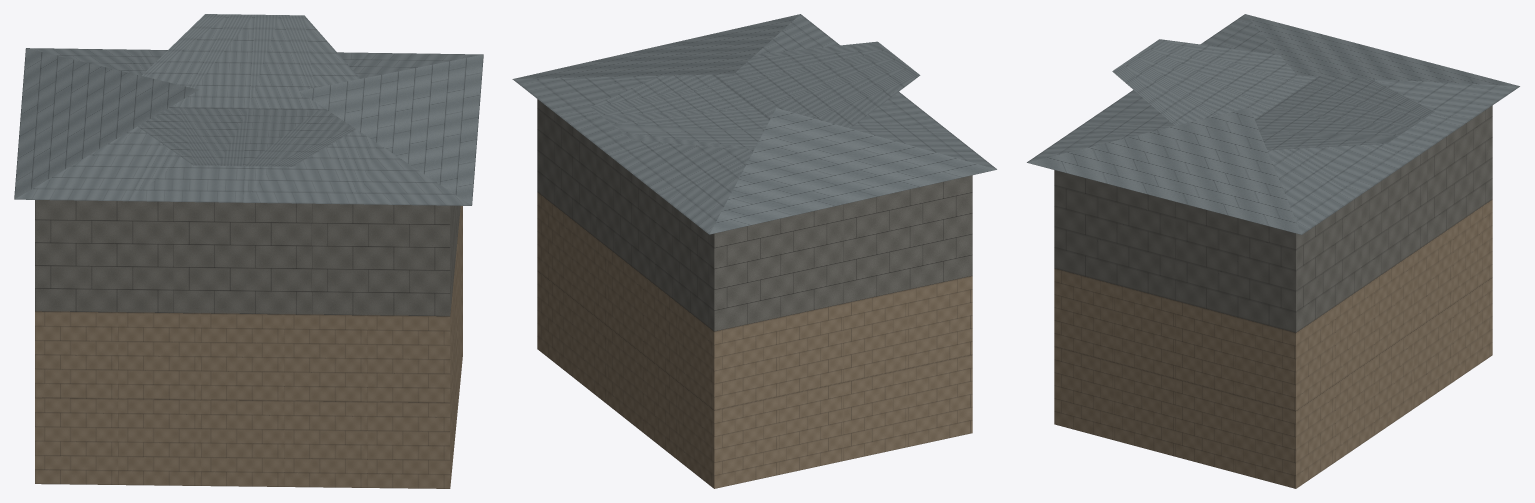
Rendered from bld_c9_6_510.gltf.
3 renders of one model, left to right at view 1: azimuth 30°, elevation 25°; view 2: azimuth 150°, elevation 25°; view 3: azimuth 270°, elevation 25°, orthographic. The views are drawn at different scales.
Visible parts, largest first — view 1: bld_c9_6_510; view 2: bld_c9_6_510; view 3: bld_c9_6_510.
Part boxes in pixels (left/top/right/bottom): bld_c9_6_510: left=14, top=14, right=483, bottom=488; bld_c9_6_510: left=512, top=14, right=996, bottom=488; bld_c9_6_510: left=1027, top=14, right=1519, bottom=488.
Bounding box in the file's own units: 14.33 × 9 × 13.54.
Materials: 3 (3 with a texture image).
